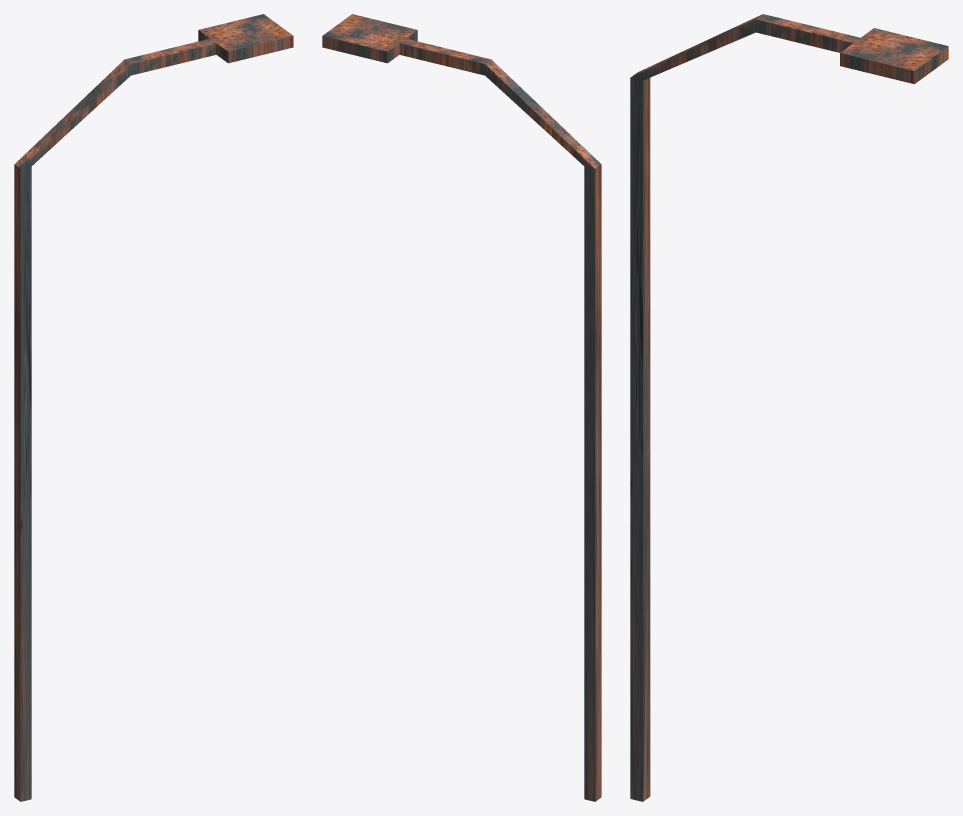
File: Lamp_Road.fbx
3 renders of one model, left to right at view 1: azimuth 30°, elevation 25°; view 2: azimuth 150°, elevation 25°; view 3: azimuth 330°, elevation 25°, orthographic. The views are drawn at different scales.
Parts seen in each view (by area): view 1: Lamp_Road; view 2: Lamp_Road; view 3: Lamp_Road.
Boxes of the visible parts, box(x1,y1,x2,y2) form: Lamp_Road: box(14, 14, 293, 801); Lamp_Road: box(322, 14, 601, 801); Lamp_Road: box(630, 14, 948, 801).
Bounding box in the file's own units: 92.05 × 239 × 18.28.
Materials: 2 (1 with a texture image).
